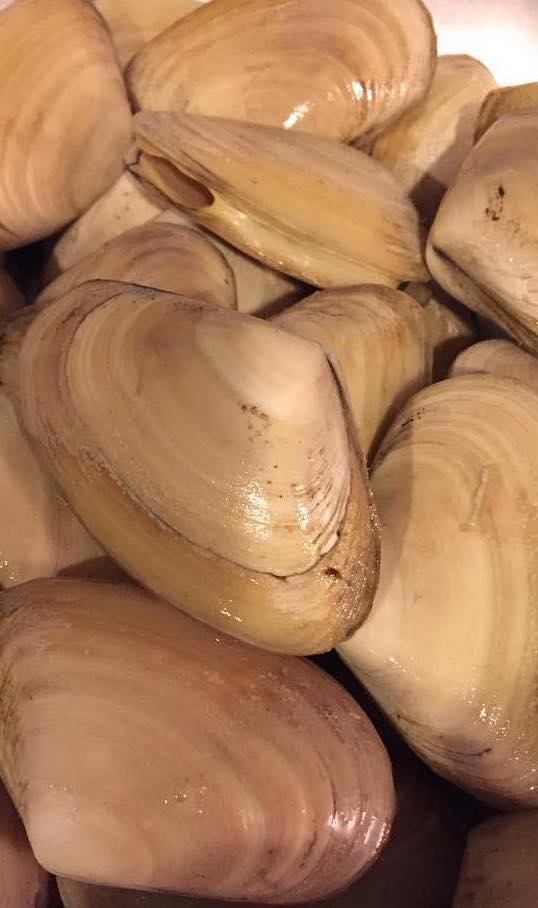tuatua: (10, 274, 382, 664), (3, 570, 400, 907), (329, 370, 538, 806), (125, 106, 437, 286), (115, 1, 442, 144), (3, 1, 133, 257), (259, 274, 435, 458), (419, 103, 538, 348)
